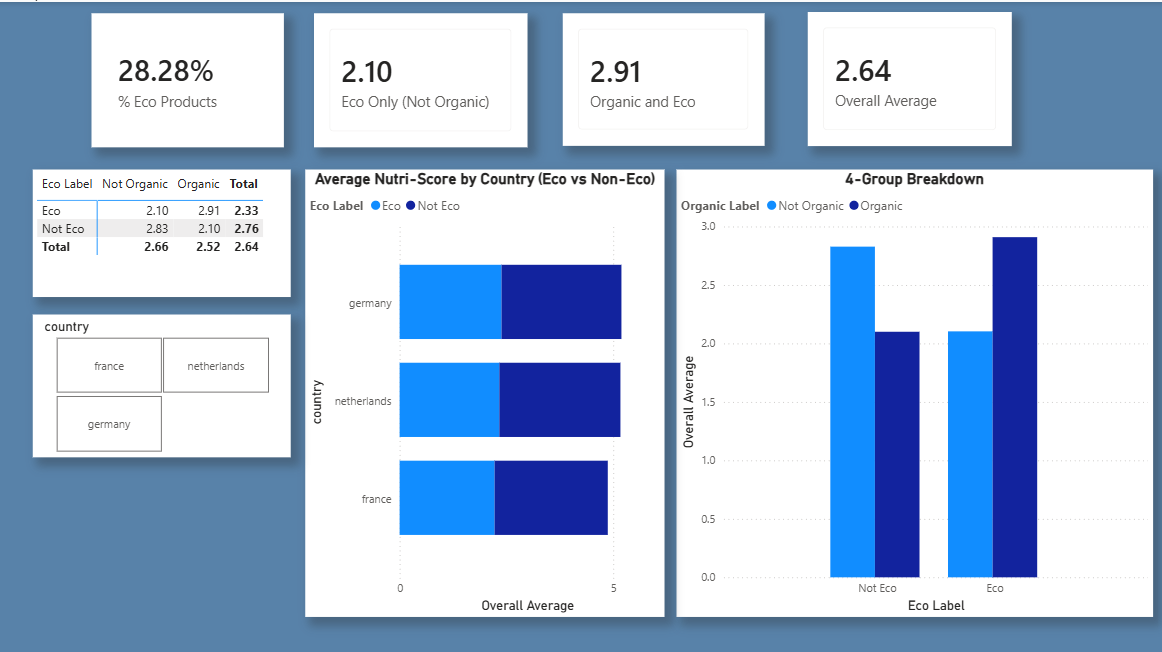

Layout of this report page (visuals, bound fields, positions):
{"tool":"powerbi","page":{"name":"Page 1","canvas":[1280,720],"ordinal":0},"visuals":[{"type":"pivotTable","title":"4-Group Breakdown","fields":{"Values":["Sheet1.avg nutri_score_sum_overall"],"Rows":["Sheet1.Eco Label"],"Columns":["Sheet1.Organic Label"]},"box":[37.1,184.3,282.9,140],"z":0},{"type":"cardVisual","title":"% Eco Products","fields":{"Data":["Sheet1.% eco_pack"]},"box":[101,12.3,211.3,146.8],"z":1000},{"type":"cardVisual","title":"Organic and Eco","fields":{"Data":["Sheet1.avg nutri_score_org_aco"]},"box":[618.6,12.9,221.4,145.7],"z":2000},{"type":"cardVisual","title":"Overall Average","fields":{"Data":["Sheet1.avg nutri_score_sum_overall"]},"box":[887.1,11.4,224.3,147.1],"z":3000},{"type":"clusteredColumnChart","title":"4-Group Breakdown","fields":{"Category":["Sheet1.Eco Label"],"Y":["Sheet1.avg nutri_score_sum_overall"],"Series":["Sheet1.Organic Label"]},"box":[744.3,184.3,522.9,491.4],"z":4000},{"type":"barChart","title":"Average Nutri-Score by Country (Eco vs Non-Eco)","fields":{"Category":["Sheet1.country"],"Series":["Sheet1.Eco Label"],"Y":["Sheet1.avg nutri_score_sum_overall"]},"box":[335.7,184.3,394.3,491.4],"z":5000},{"type":"cardVisual","title":"Eco Only (Not Organic)","fields":{"Data":["Sheet1.Eco Only (Not Organic)"]},"box":[345.7,12.9,234.3,147.1],"z":6000},{"type":"slicer","fields":{"Values":["Sheet1.country"]},"box":[37.1,342.9,282.9,157.1],"z":7000}]}

Visuals, with their boxes in screenshot pixels (x1, y1, x2, y2), scaled from the page's 1280x720 canvas onto the 1162x652 screenshot:
"4-Group Breakdown" pivotTable: x1=34, y1=167, x2=290, y2=294
"% Eco Products" cardVisual: x1=92, y1=11, x2=284, y2=144
"Organic and Eco" cardVisual: x1=562, y1=12, x2=763, y2=144
"Overall Average" cardVisual: x1=805, y1=10, x2=1009, y2=144
"4-Group Breakdown" clusteredColumnChart: x1=676, y1=167, x2=1150, y2=612
"Average Nutri-Score by Country (Eco vs Non-Eco)" barChart: x1=305, y1=167, x2=663, y2=612
"Eco Only (Not Organic)" cardVisual: x1=314, y1=12, x2=527, y2=145
slicer - Sheet1.country: x1=34, y1=311, x2=290, y2=453
